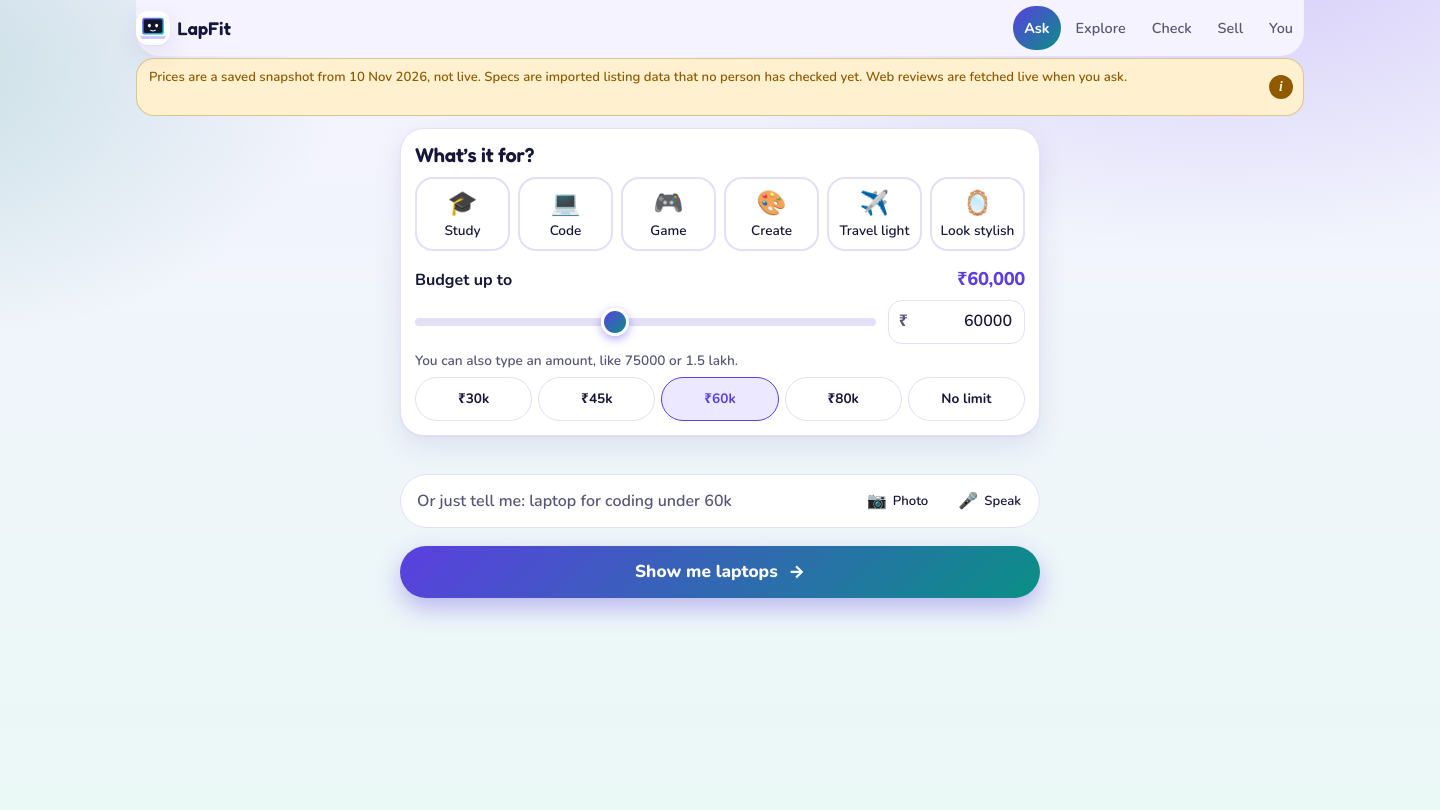
it: shell › the (i) button opens the Trust sheet: plain reasons, the data line, Market, About and the voice language; Escape closes it; no footer or banner is left on the p
The image size is (1440, 810).
Click the button named "Why trust this?" at x=1281, y=87, box [1259, 65, 1303, 109]
(page scrolled)
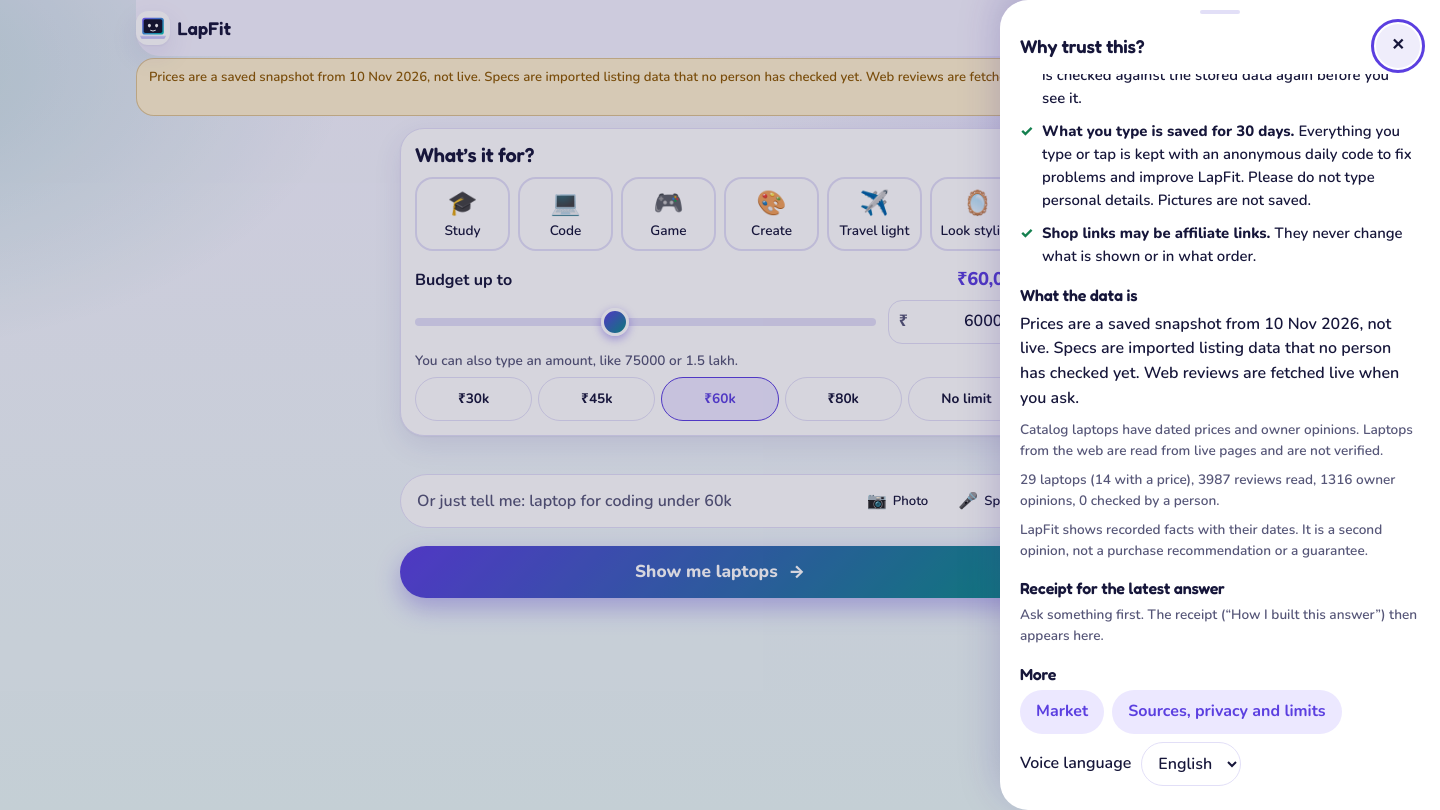
Expected: the dropdown labelled "Voice language" is shown, [1141, 742, 1241, 786]
Press Escape
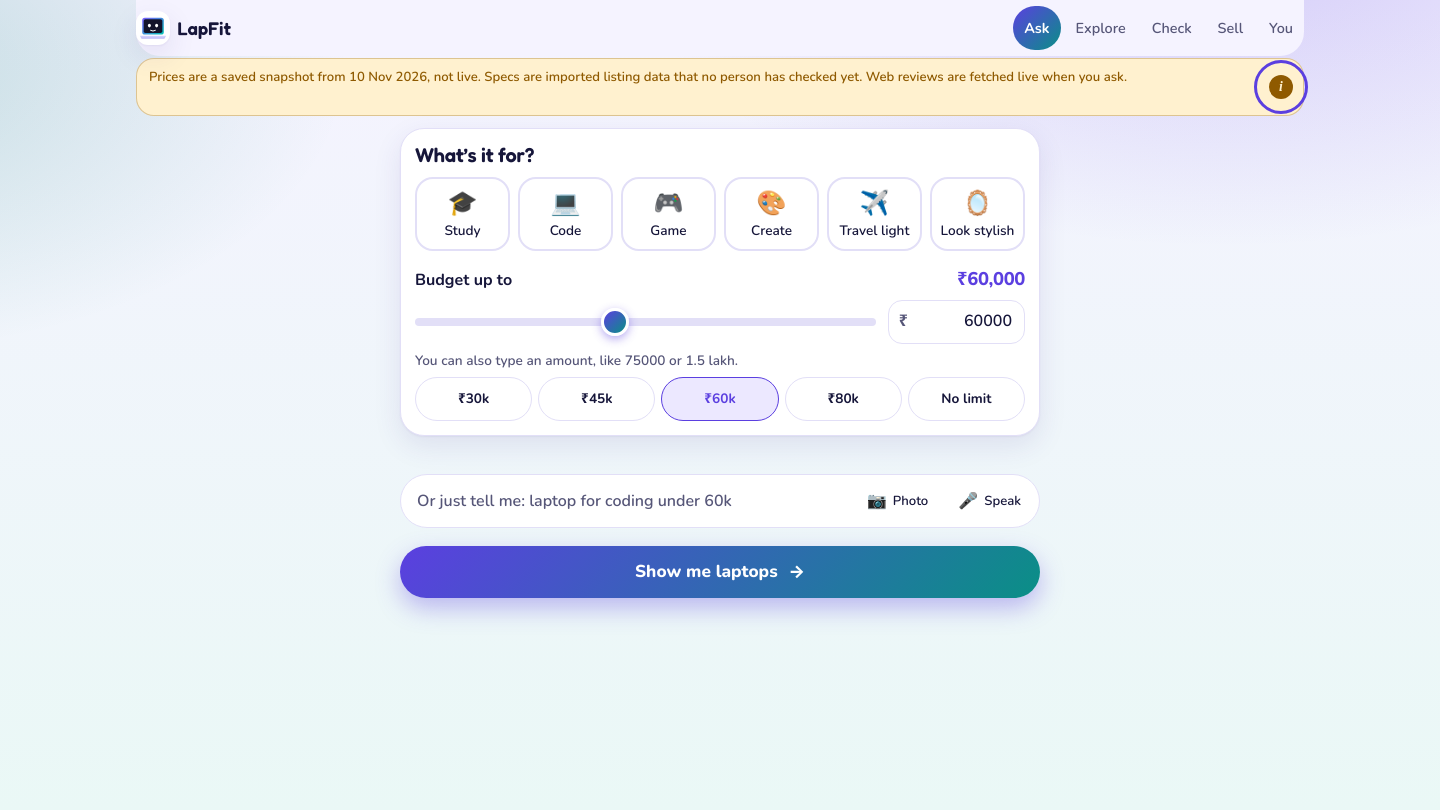
Expected: the dialog is gone
